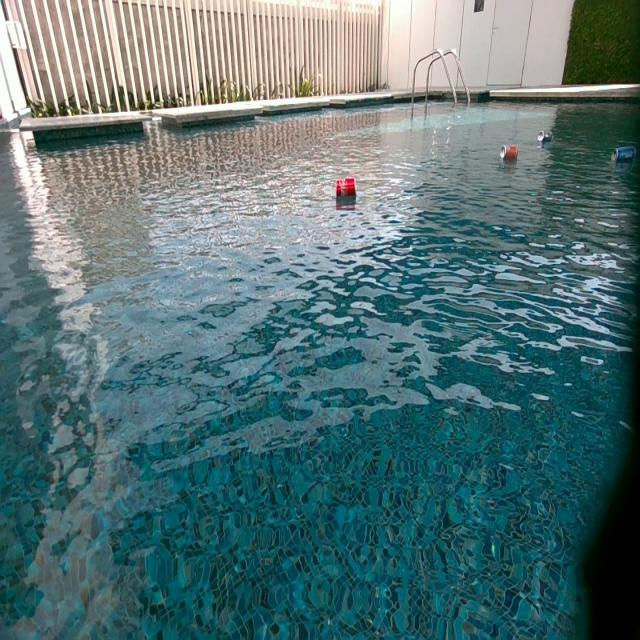Cans: (337, 177, 357, 197), (614, 146, 637, 163), (499, 144, 517, 162), (536, 131, 552, 145)
